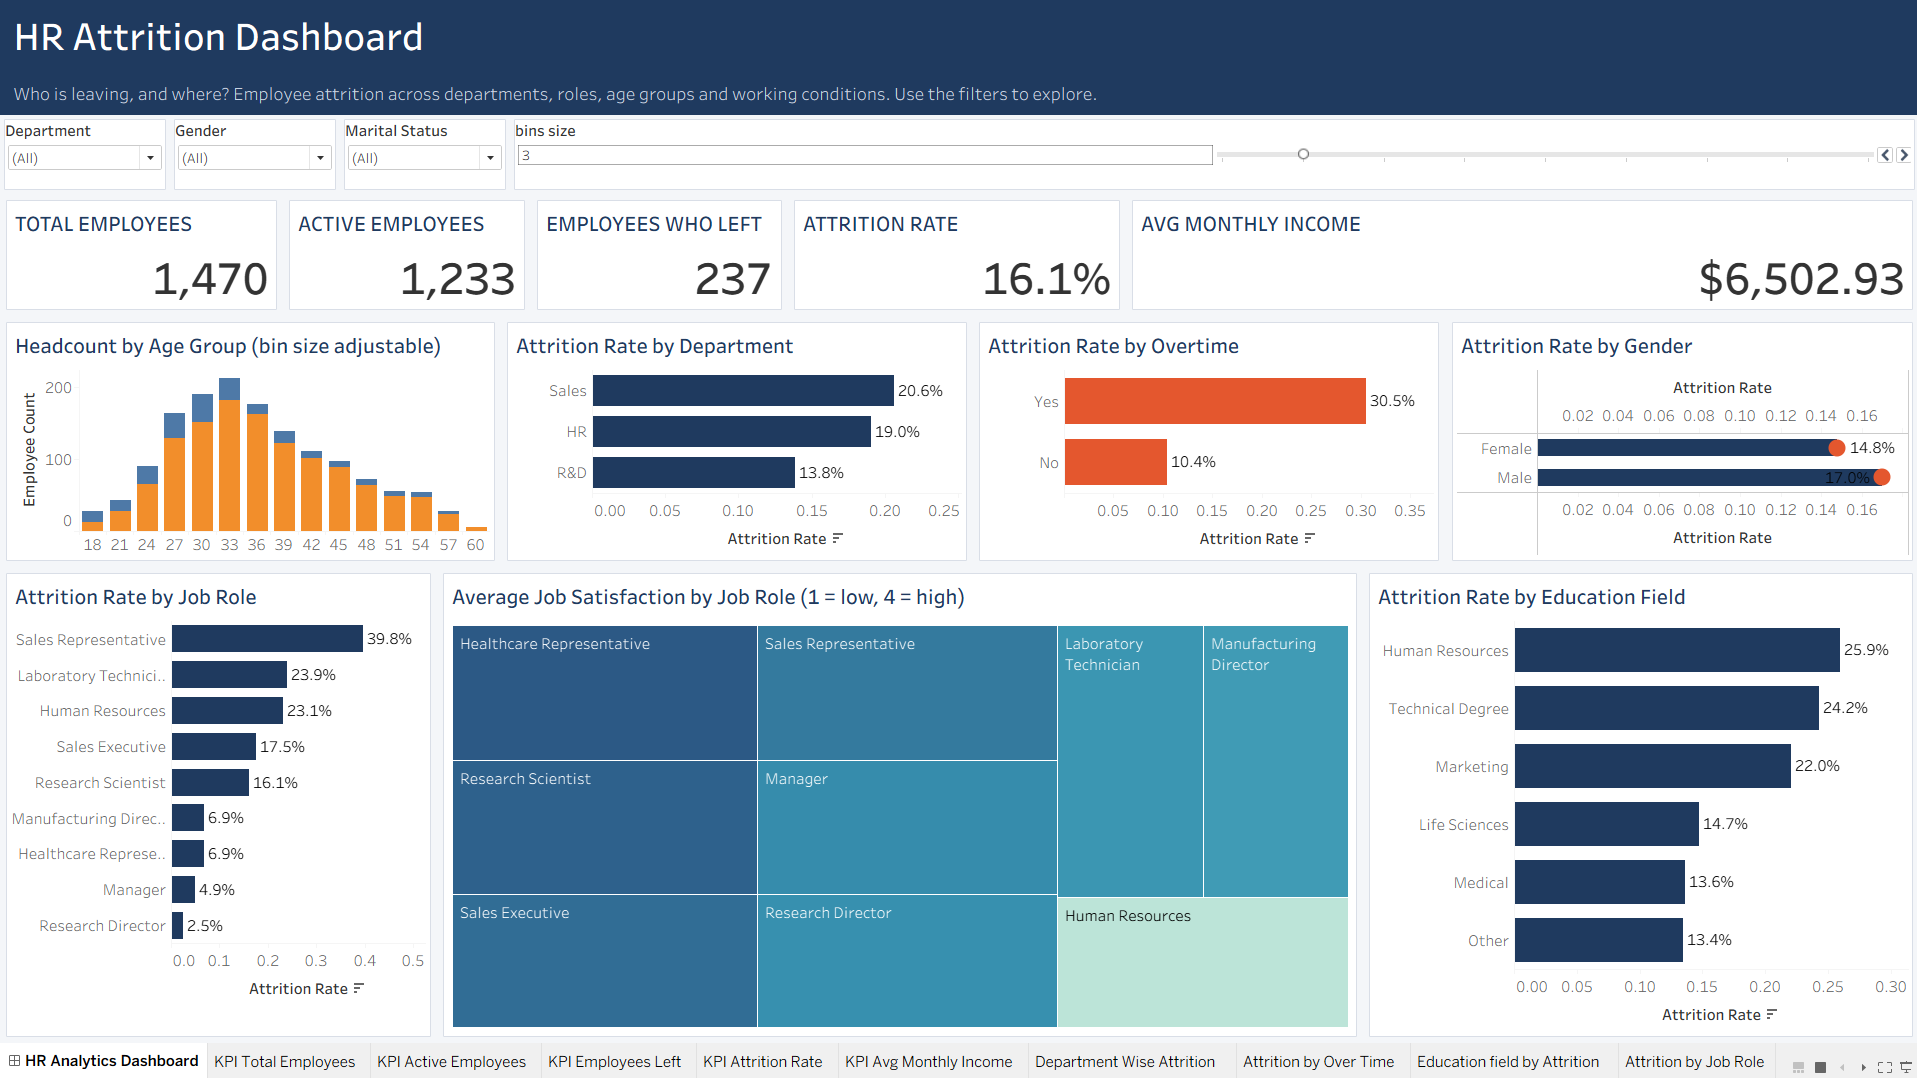

Layout of this report page (visuals, bound fields, positions):
{"tool":"tableau","page":{"name":"HR Analytics Dashboard","canvas":[1000,1000],"units":"permille","ordinal":0},"visuals":[{"type":"text","box":[0,0,1000,83.4]},{"type":"text","box":[0,83.4,1000,51.7]},{"type":"filter","title":"Department Wise Attrition ","param":"[federated.0ak17zn0ysxk481fulhvb0bg193u].[none:Department:nk]","box":[0,135.1,102.6,92.8]},{"type":"filter","title":"Lollipop Chart","param":"[federated.0ak17zn0ysxk481fulhvb0bg193u].[none:Gender:nk]","box":[102.6,135.1,102.6,92.8]},{"type":"filter","title":"KPI Total Employees","param":"[federated.0ak17zn0ysxk481fulhvb0bg193u].[none:Marital Status:nk]","box":[205.2,135.1,102.6,92.8]},{"type":"parameter","param":"[Parameters].[Parameter 1567959221329923]","box":[307.8,135.1,692.2,92.8]},{"type":"worksheet","title":"KPI Total Employees","mark":"Text","box":[0,228,170.8,143.4]},{"type":"worksheet","title":"KPI Active Employees","mark":"Text","box":[170.8,228,149.7,143.4]},{"type":"worksheet","title":"KPI Employees Left","mark":"Text","box":[320.5,228,155.1,143.4]},{"type":"worksheet","title":"KPI Attrition Rate","mark":"Text","box":[475.6,228,204,143.4]},{"type":"worksheet","title":"KPI Avg Monthly Income","mark":"Text","box":[679.5,228,320.5,143.4]},{"type":"worksheet","title":"No. of Employees by Age Group ","mark":"Bar","rows":["Employee Count"],"cols":["Age (bin)"],"box":[0,371.3,302.4,294.9]},{"type":"worksheet","title":"Department Wise Attrition ","mark":"Bar","rows":["Department"],"cols":["Calculation_1567959209455617"],"box":[302.4,371.3,232.1,294.9]},{"type":"worksheet","title":"Attrition by Over Time","mark":"Bar","rows":["Over Time"],"cols":["Calculation_1567959209455617"],"box":[534.5,371.3,232.1,294.9]},{"type":"worksheet","title":"Lollipop Chart","mark":"Automatic","rows":["Gender"],"cols":["Calculation_1567959209455617","Calculation_1567959209455617"],"box":[766.6,371.3,233.3,294.9]},{"type":"worksheet","title":"Attrition by Job Role","mark":"Bar","rows":["Job Role"],"cols":["Calculation_1567959209455617"],"box":[0,666.3,263.7,333.7]},{"type":"worksheet","title":"Job Satisfaction Rating","mark":"Automatic","box":[263.7,666.3,446.1,333.7]},{"type":"worksheet","title":"Education field by Attrition","mark":"Bar","rows":["Education Field"],"cols":["Calculation_1567959209455617"],"box":[709.8,666.3,290.2,333.7]}]}

Visuals, with their boxes on the dashboard's canvas, which has no fixed pixel size, in thousandths of its width and height (x1, y1, x2, y2). These are canvas units, not pixel positions in the 1917x1078 screenshot, which may show the page scaled, cropped or inside an application window:
text: 0, 0, 1000, 83
text: 0, 83, 1000, 135
"Department Wise Attrition " filter: 0, 135, 103, 228
"Lollipop Chart" filter: 103, 135, 205, 228
"KPI Total Employees" filter: 205, 135, 308, 228
parameter: 308, 135, 1000, 228
"KPI Total Employees" worksheet (Text marks): 0, 228, 171, 371
"KPI Active Employees" worksheet (Text marks): 171, 228, 320, 371
"KPI Employees Left" worksheet (Text marks): 320, 228, 476, 371
"KPI Attrition Rate" worksheet (Text marks): 476, 228, 680, 371
"KPI Avg Monthly Income" worksheet (Text marks): 680, 228, 1000, 371
"No. of Employees by Age Group " worksheet (Bar marks): 0, 371, 302, 666
"Department Wise Attrition " worksheet (Bar marks): 302, 371, 534, 666
"Attrition by Over Time" worksheet (Bar marks): 534, 371, 767, 666
"Lollipop Chart" worksheet: 767, 371, 1000, 666
"Attrition by Job Role" worksheet (Bar marks): 0, 666, 264, 1000
"Job Satisfaction Rating" worksheet: 264, 666, 710, 1000
"Education field by Attrition" worksheet (Bar marks): 710, 666, 1000, 1000
